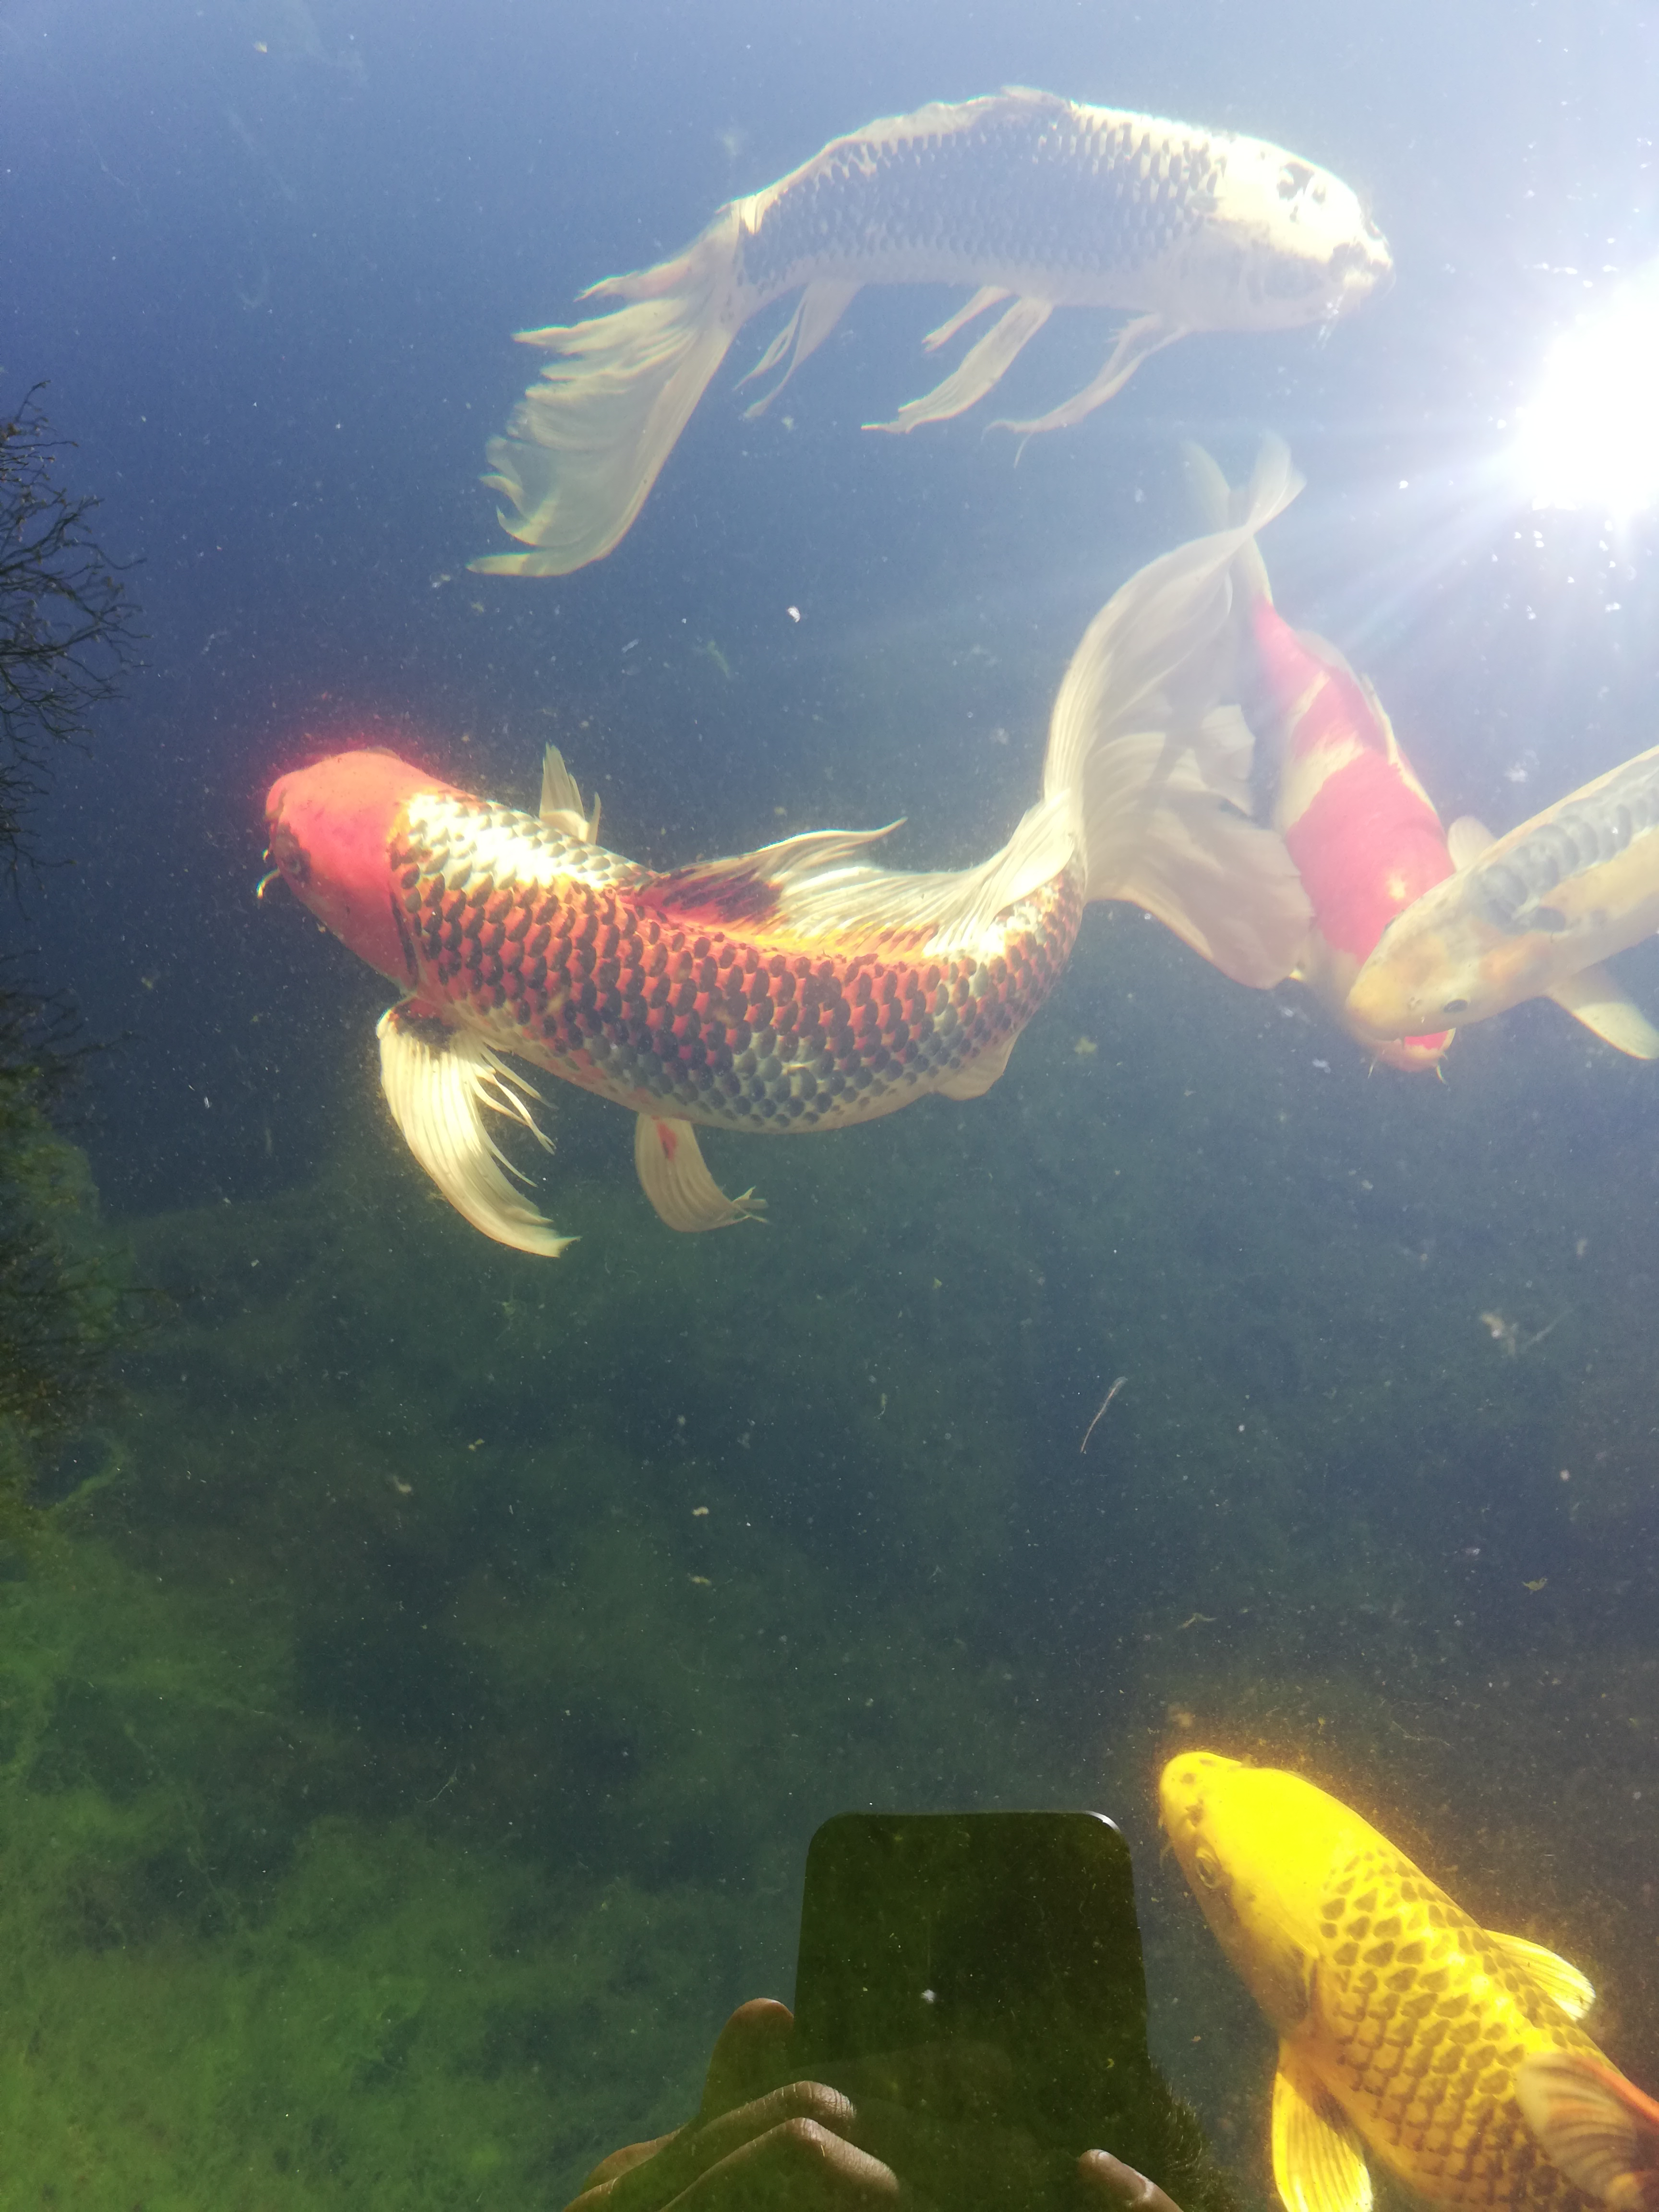Alfred2: (434, 24, 1457, 610)
Goldie: (1107, 1691, 1659, 2207)
